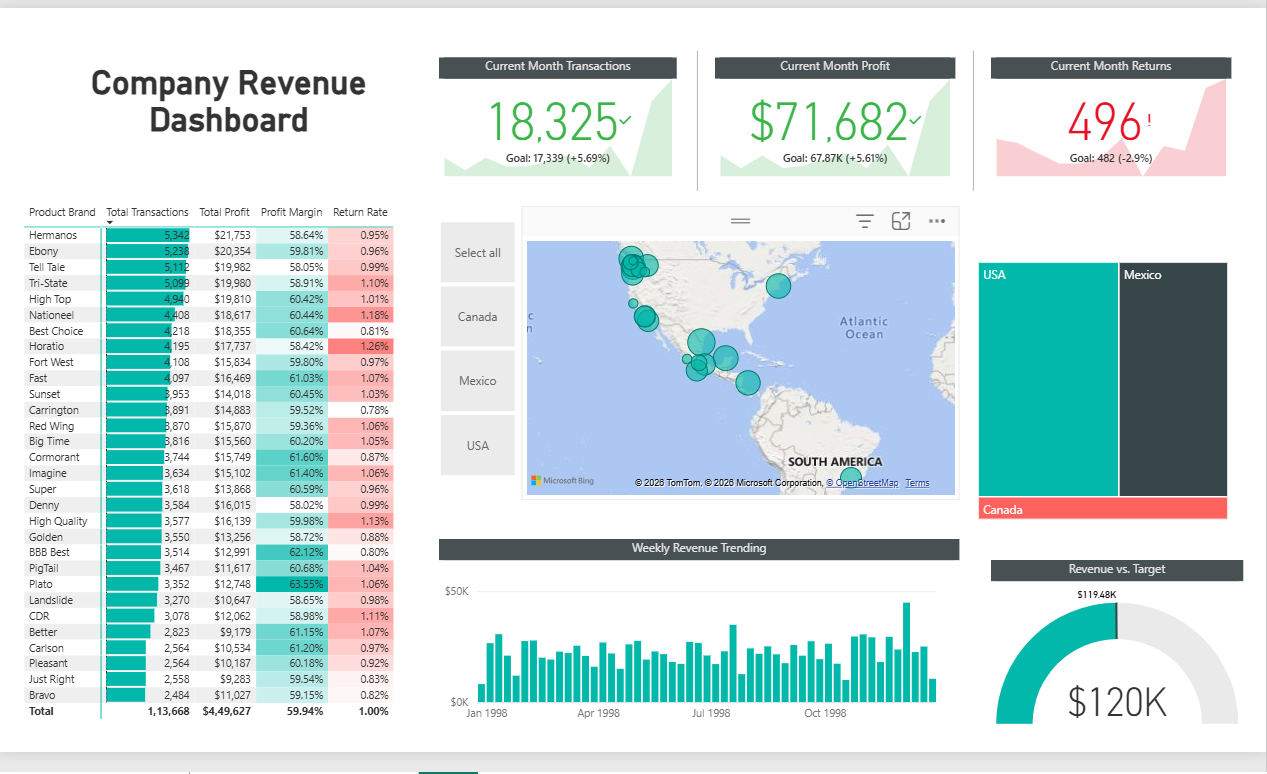

This screenshot's page, from the dashboard's own definition file:
{"tool":"powerbi","page":{"name":"Topline Performance","canvas":[1280,720],"ordinal":0},"visuals":[{"type":"pivotTable","fields":{"Values":["Transaction_Data.Total Transactions","Transaction_Data.Total Profit","Transaction_Data.Profit Margin","Return_Data.Return Rate"],"Rows":["Products.product_brand"]},"box":[20.6,161.3,401.5,536],"z":0},{"type":"kpi","title":"Current Month Transactions","fields":{"TrendLine":["Calendar.Start of Month"],"Goal":["Transaction_Data.Last Month Transactions"],"Indicator":["Transaction_Data.Total Transactions"]},"box":[445.9,19,240.2,124.7],"z":1000},{"type":"kpi","title":"Current Month Profit","fields":{"TrendLine":["Calendar.Start of Month"],"Goal":["Transaction_Data.Last Month Profit"],"Indicator":["Transaction_Data.Total Profit"]},"box":[723.3,19,242.5,124.7],"z":2000},{"type":"kpi","title":"Current Month Returns","fields":{"TrendLine":["Calendar.Start of Month"],"Goal":["Return_Data.Last Month Returns"],"Indicator":["Return_Data.Total Returns"]},"box":[1003,19,242.5,124.7],"z":3000},{"type":"map","fields":{"Category":["Stores.store_city"],"Size":["Transaction_Data.Total Transactions"]},"box":[528.5,199.9,442.1,266.5],"z":4000},{"type":"slicer","fields":{"Values":["Stores.store_country"]},"box":[420.5,178.9,124.7,270],"z":5000},{"type":"columnChart","title":"Weekly Revenue Trending","fields":{"Category":["Calendar.Start of Week"],"Y":["Transaction_Data.Total Revenue"]},"box":[445.2,505.7,525.4,192.3],"z":6000},{"type":"gauge","title":"Revenue vs. Target","fields":{"Y":["Transaction_Data.Total Revenue"],"TargetValue":["Transaction_Data.Revenue Target"]},"box":[1002.4,526.9,254.4,171.1],"z":7000},{"type":"basicShape","box":[671.7,2.9,67.5,161.3],"z":8000},{"type":"basicShape","box":[950.3,2.9,67.5,161.3],"z":9000},{"type":"treemap","fields":{"Group":["Stores.store_country","Stores.store_state","Stores.store_city"],"Values":["Transaction_Data.Total Transactions"]},"box":[984.2,221.1,262,269.5],"z":10000},{"type":"textbox","box":[21.2,19.7,424,130.2],"z":11000}]}

Visuals, with their boxes on the page's 1280x720 design canvas (x1, y1, x2, y2). These are canvas units, not pixel positions in the 1267x774 screenshot, which may show the page scaled, cropped or inside an application window:
pivotTable - Transaction_Data.Total Transactions x Transaction_Data.Total Profit: region(21, 161, 422, 697)
"Current Month Transactions" kpi: region(446, 19, 686, 144)
"Current Month Profit" kpi: region(723, 19, 966, 144)
"Current Month Returns" kpi: region(1003, 19, 1246, 144)
map - Stores.store_city x Transaction_Data.Total Transactions: region(528, 200, 971, 466)
slicer - Stores.store_country: region(420, 179, 545, 449)
"Weekly Revenue Trending" columnChart: region(445, 506, 971, 698)
"Revenue vs. Target" gauge: region(1002, 527, 1257, 698)
basicShape: region(672, 3, 739, 164)
basicShape: region(950, 3, 1018, 164)
treemap - Stores.store_country x Stores.store_state: region(984, 221, 1246, 491)
textbox: region(21, 20, 445, 150)
